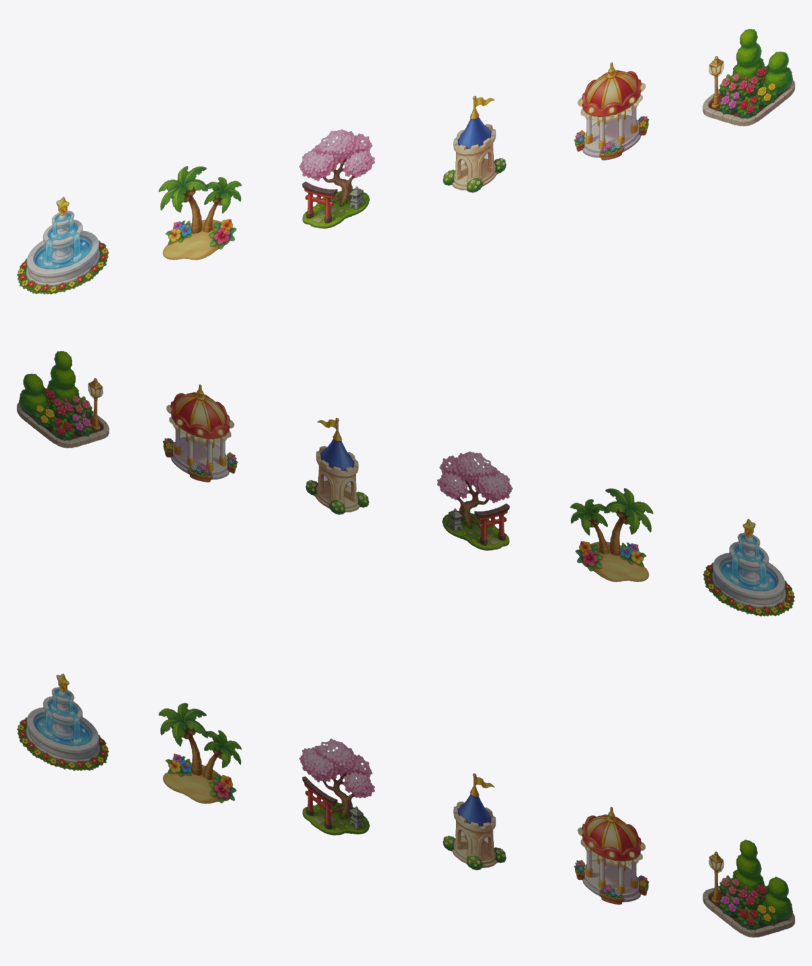
Rendered from level_architecture_3d.glb.
3 views of the same model, one above another, from view 1: azimuth 30°, elevation 25°; view 2: azimuth 150°, elevation 25°; view 3: azimuth 330°, elevation 25° (orthographic).
Parts seen in each view (by area): view 1: arch_rose_garden, arch_sakura_torii, arch_fountain, arch_carnival_pavilion, arch_palm_oasis, arch_castle_gazebo; view 2: arch_rose_garden, arch_sakura_torii, arch_fountain, arch_carnival_pavilion, arch_palm_oasis, arch_castle_gazebo; view 3: arch_rose_garden, arch_sakura_torii, arch_fountain, arch_carnival_pavilion, arch_palm_oasis, arch_castle_gazebo.
Part boxes in pixels (x1=…): arch_rose_garden: x1=702, y1=29, x2=794, y2=126; arch_sakura_torii: x1=299, y1=129, x2=374, y2=228; arch_fountain: x1=17, y1=197, x2=108, y2=294; arch_carnival_pavilion: x1=574, y1=62, x2=648, y2=160; arch_palm_oasis: x1=158, y1=166, x2=241, y2=259; arch_castle_gazebo: x1=443, y1=96, x2=506, y2=192; arch_rose_garden: x1=17, y1=351, x2=109, y2=448; arch_sakura_torii: x1=437, y1=451, x2=512, y2=550; arch_fountain: x1=703, y1=519, x2=794, y2=616; arch_carnival_pavilion: x1=163, y1=384, x2=237, y2=482; arch_palm_oasis: x1=570, y1=488, x2=653, y2=581; arch_castle_gazebo: x1=305, y1=418, x2=368, y2=514; arch_rose_garden: x1=702, y1=839, x2=794, y2=937; arch_sakura_torii: x1=299, y1=738, x2=374, y2=835; arch_fountain: x1=17, y1=673, x2=108, y2=770; arch_carnival_pavilion: x1=574, y1=807, x2=648, y2=904; arch_palm_oasis: x1=158, y1=703, x2=241, y2=803; arch_castle_gazebo: x1=443, y1=773, x2=506, y2=870.
Bounding box in the file's own units: 8 × 1 × 0.
1 material, 1 textured.
